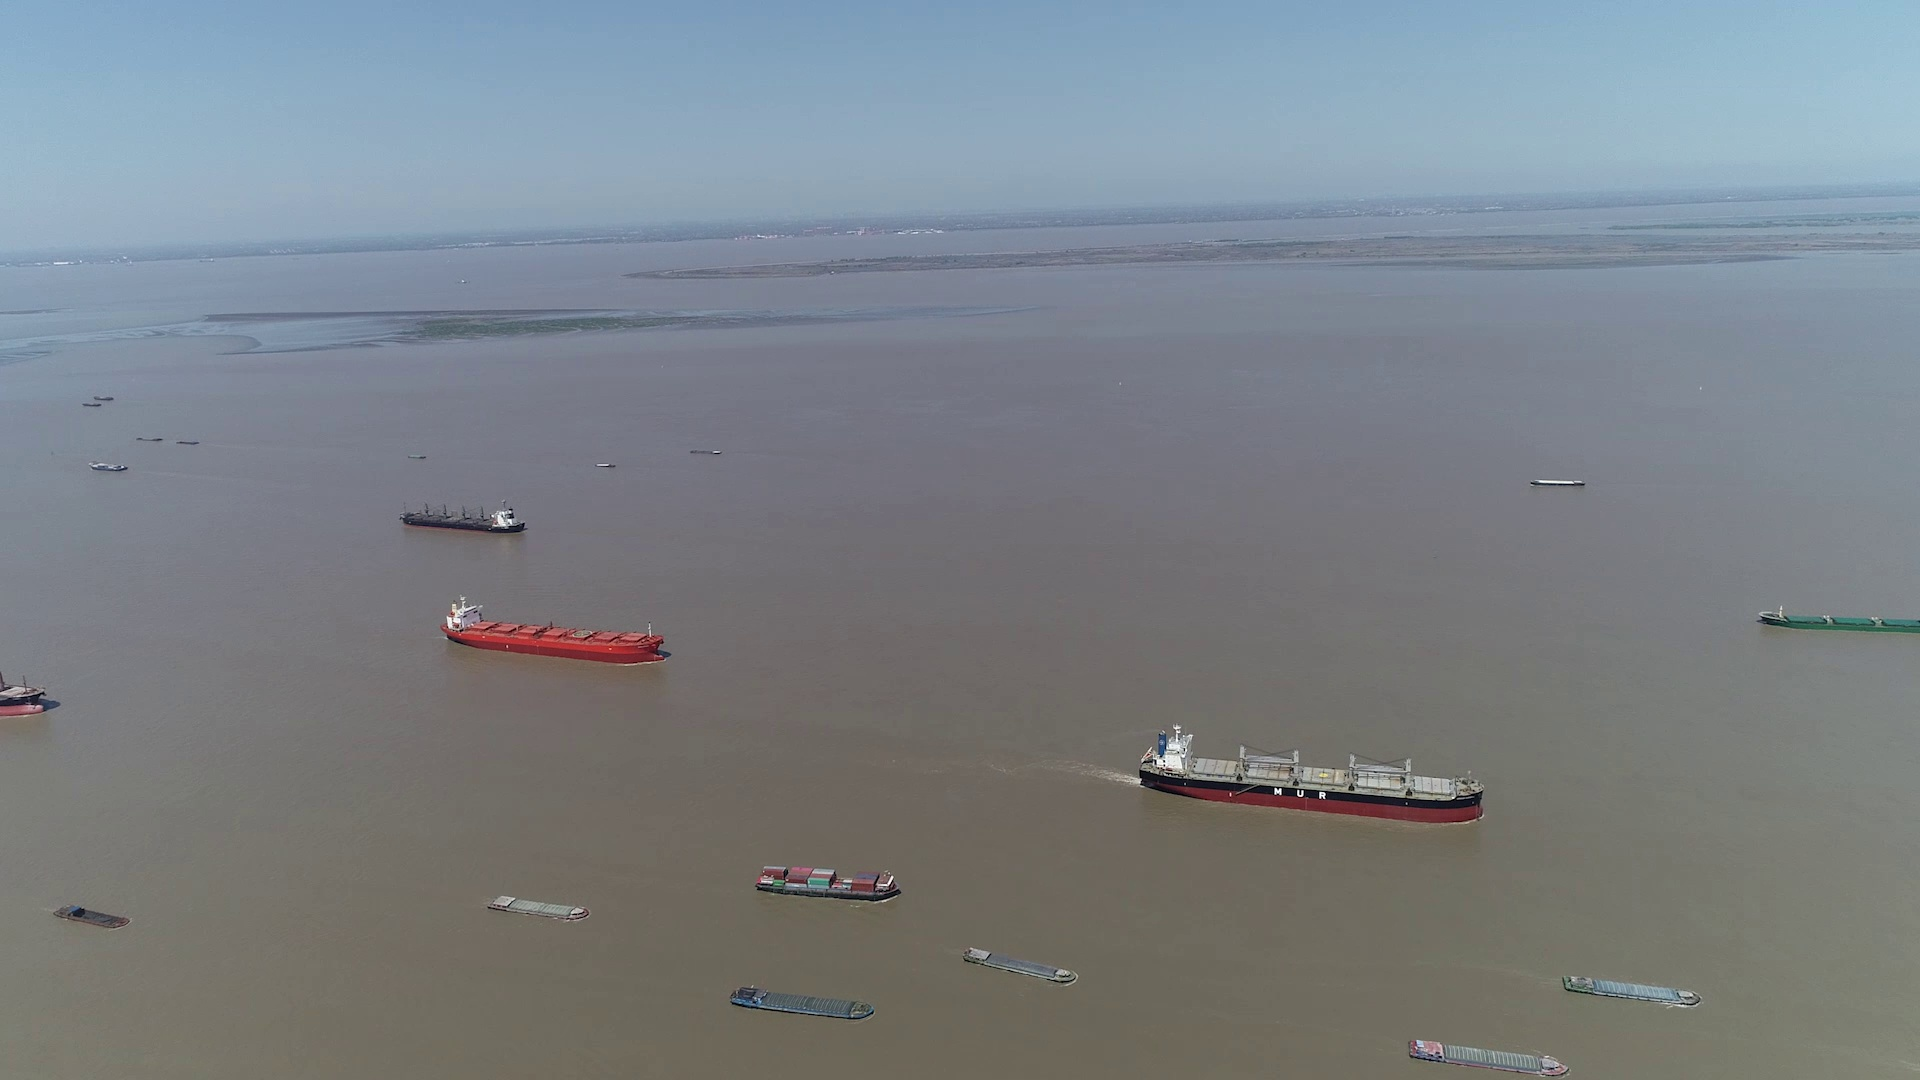ship: (1139, 728, 1485, 823), (446, 593, 665, 665), (1408, 1039, 1564, 1077), (754, 865, 901, 902), (731, 986, 876, 1023), (1563, 973, 1700, 1007), (961, 947, 1077, 986), (1756, 605, 1917, 633), (397, 500, 526, 534), (0, 666, 54, 723), (487, 893, 587, 920), (54, 903, 131, 928), (1531, 477, 1585, 487), (94, 459, 128, 471), (688, 448, 723, 455)
